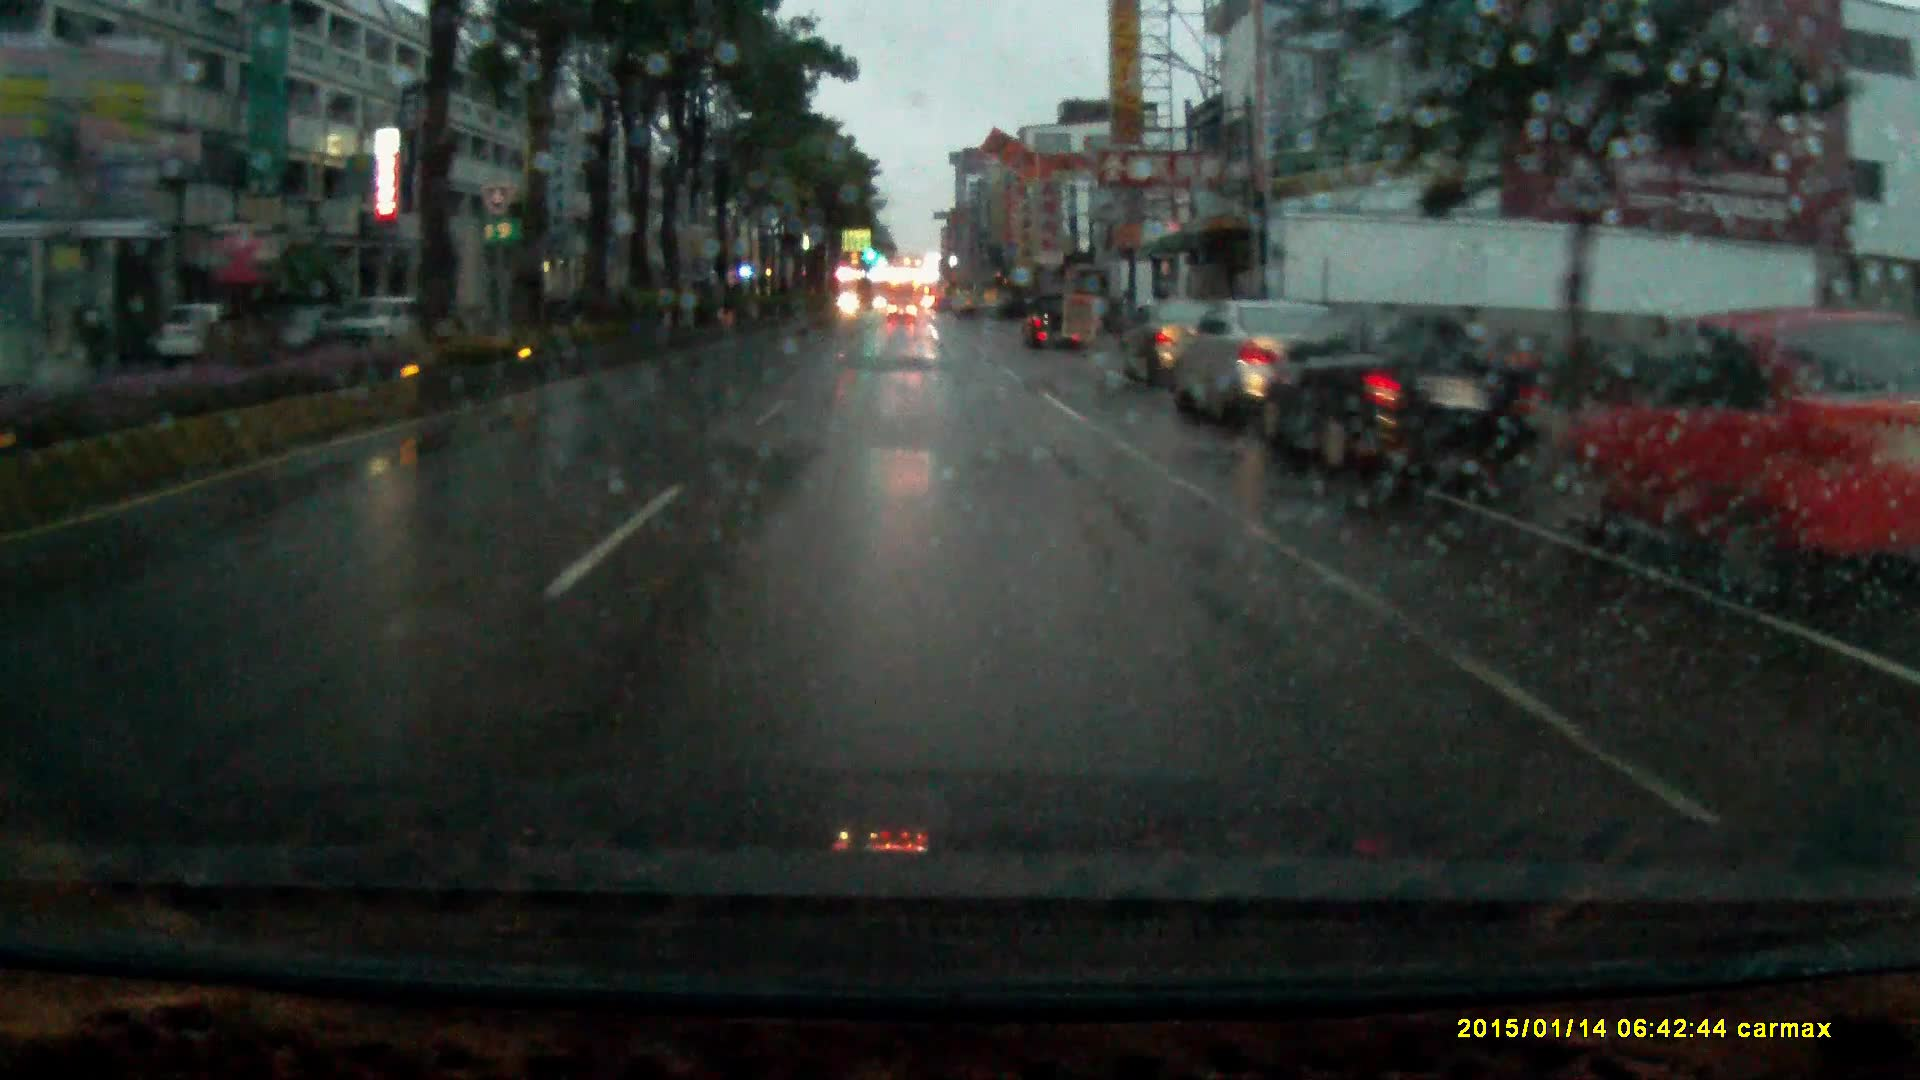vehicle: (1265, 301, 1520, 480), (1172, 295, 1371, 415), (1117, 298, 1215, 386), (323, 293, 440, 348), (170, 303, 258, 359), (1019, 287, 1087, 356), (886, 295, 918, 324)
